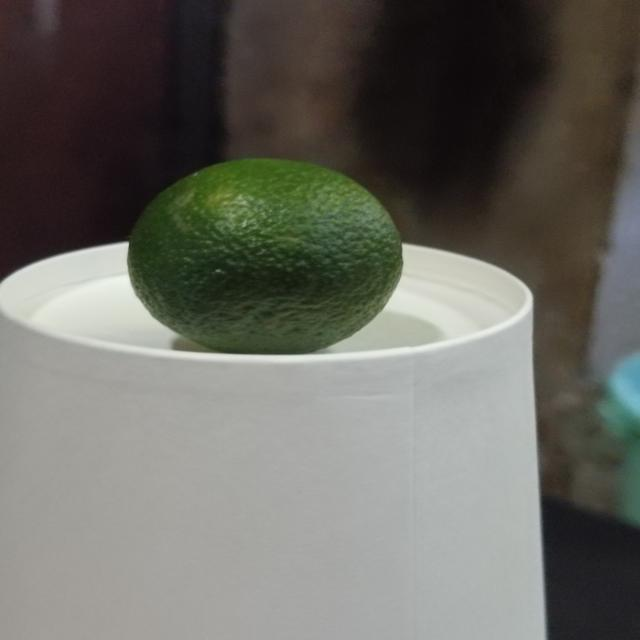heathy: (126, 150, 412, 353)
